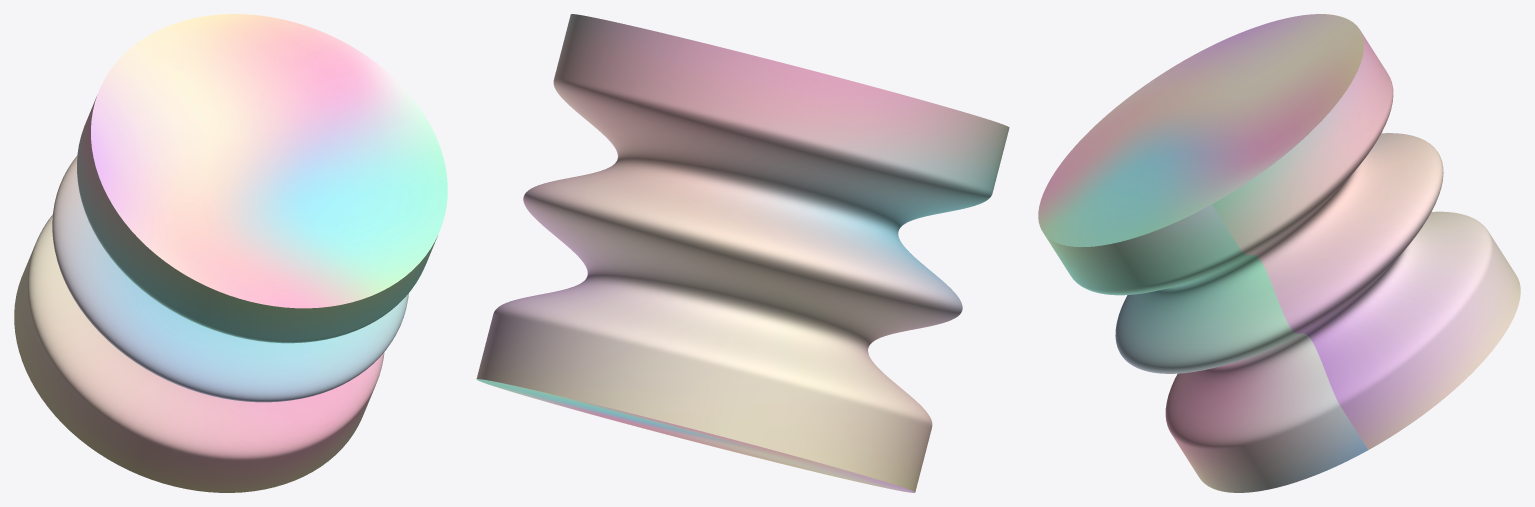
The model's file is Prim_02.gltf.
The picture shows the model from 3 angles, left to right: view 1: azimuth 30°, elevation 25°; view 2: azimuth 150°, elevation 25°; view 3: azimuth 270°, elevation 25°; orthographic projection. The views are drawn at different scales.
Parts seen in each view (by area): view 1: Hose001; view 2: Hose001; view 3: Hose001.
Boxes of the visible parts, x1,y1,x2,y2 form: Hose001: (14,14,447,492); Hose001: (476,14,1009,492); Hose001: (1038,14,1520,492).
Bounding box in the file's own units: 61.07 × 74.56 × 78.31.
1 material, 1 textured.
